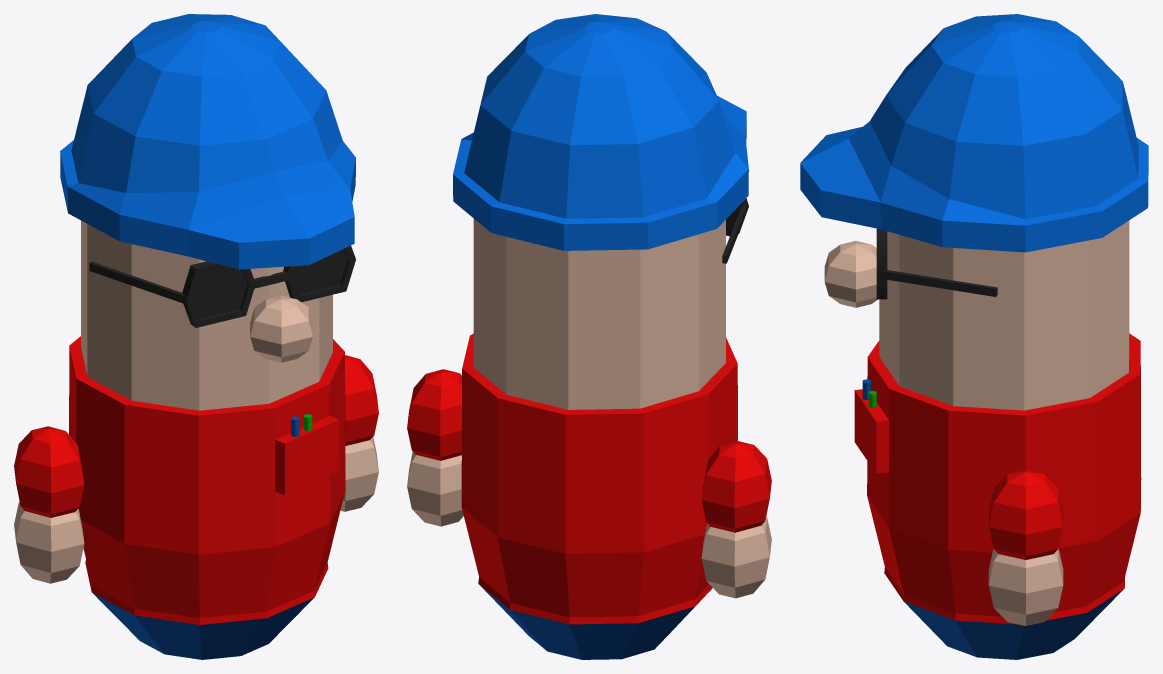
File: character1.fbx
The picture shows the model from 3 angles, left to right: view 1: azimuth 30°, elevation 25°; view 2: azimuth 150°, elevation 25°; view 3: azimuth 270°, elevation 25°; orthographic projection.
Parts seen in each view (by area): view 1: pCylinder12; view 2: pCylinder12; view 3: pCylinder12.
Boxes of the visible parts, bbox=[...] form: pCylinder12: bbox=[14, 14, 378, 659]; pCylinder12: bbox=[407, 14, 771, 659]; pCylinder12: bbox=[800, 14, 1148, 659].
Size of the model in its own units: 1.02 by 1.69 by 0.8578.
